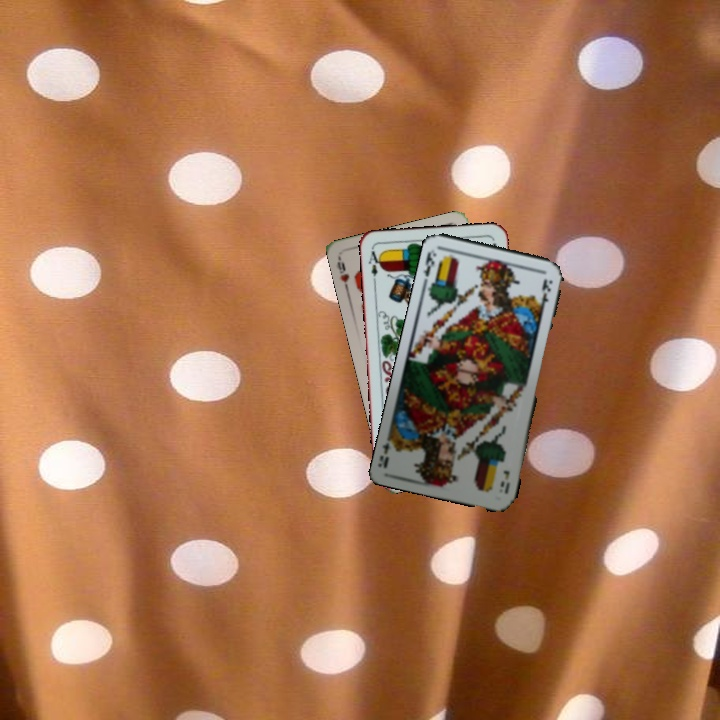EA: (364, 245, 384, 286)
EK: (420, 245, 439, 279), (496, 466, 512, 497)
H9: (333, 254, 352, 294)
